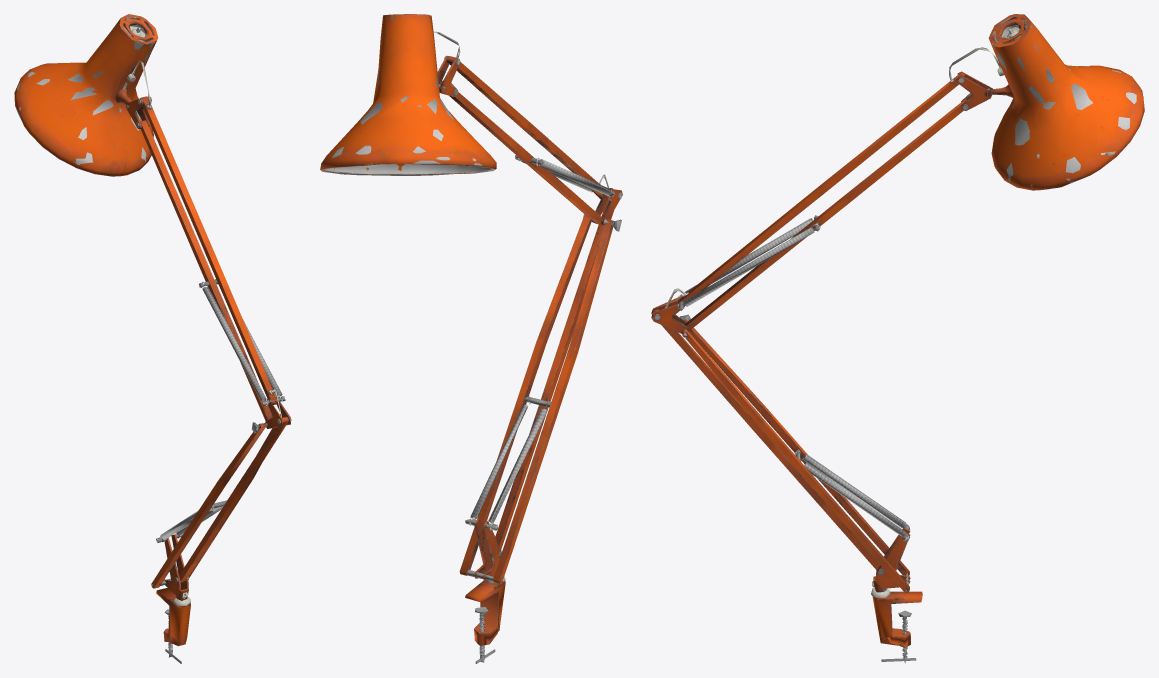
The model's file is desk_lamp_arm_01_lod1.glb.
3 views of the same model, side by side, from view 1: azimuth 30°, elevation 25°; view 2: azimuth 150°, elevation 25°; view 3: azimuth 270°, elevation 25° (orthographic). The views are drawn at different scales.
Parts seen in each view (by area): view 1: desk_lamp_arm_01; view 2: desk_lamp_arm_01; view 3: desk_lamp_arm_01.
Part boxes in pixels (x1,y1,x2,y2): desk_lamp_arm_01: (14,14,291,663); desk_lamp_arm_01: (320,14,622,663); desk_lamp_arm_01: (651,14,1144,663).
Size of the model in its own units: 0.2017 by 0.8923 by 0.6132.
2 materials, 2 textured.
